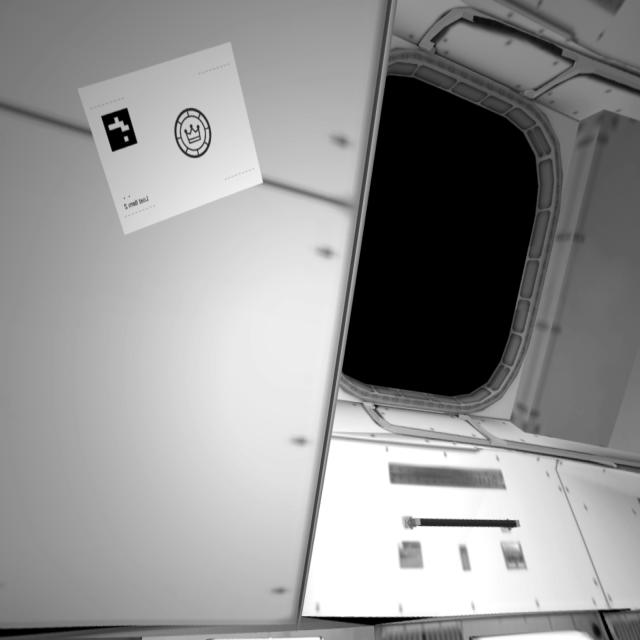coin: (171, 104, 222, 164)
